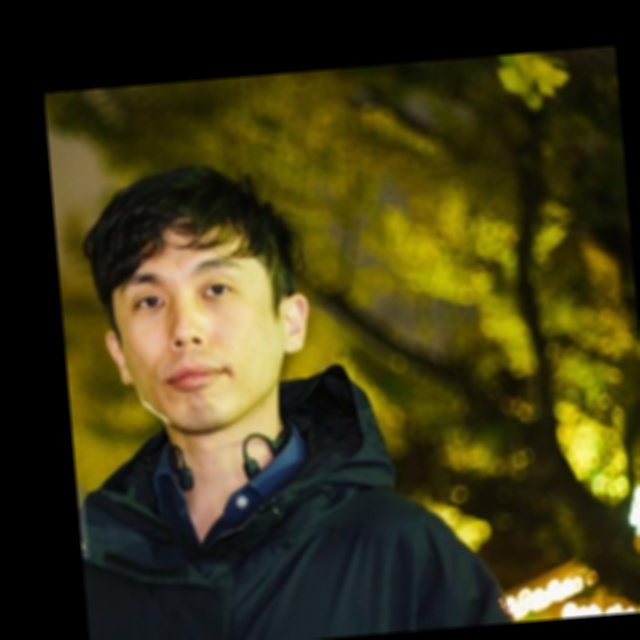Sin_Casco_Mascarrilla: (74, 158, 319, 440)
